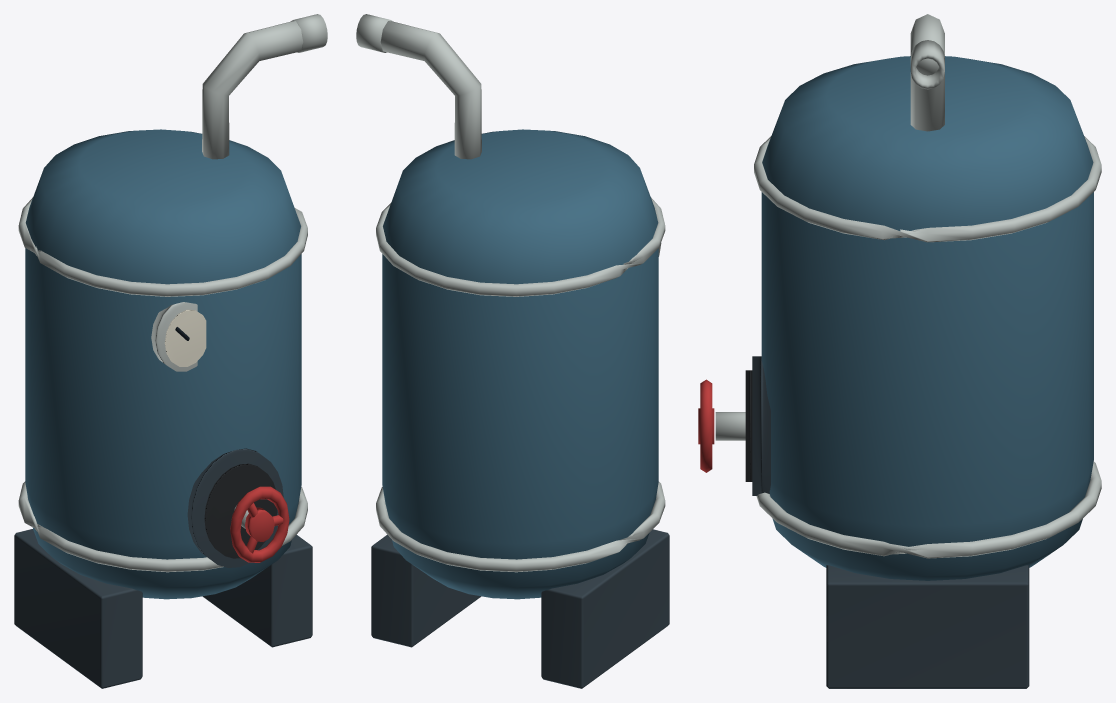
The model's file is S084_cartoon_boiler_rebuilt.glb.
3 renders of one model, left to right at view 1: azimuth 30°, elevation 25°; view 2: azimuth 150°, elevation 25°; view 3: azimuth 270°, elevation 25°, orthographic. The views are drawn at different scales.
Parts seen in each view (by area): view 1: blue, shell, silver, rubber, red, white; view 2: blue, shell, silver; view 3: blue, shell, silver, red, rubber.
Part boxes in pixels (bbox=[...]): blue: bbox=[25, 129, 301, 599]; shell: bbox=[14, 448, 312, 688]; silver: bbox=[18, 14, 327, 572]; rubber: bbox=[204, 463, 277, 558]; red: bbox=[230, 486, 289, 562]; white: bbox=[164, 309, 206, 366]; blue: bbox=[382, 129, 658, 599]; shell: bbox=[371, 529, 669, 688]; silver: bbox=[356, 14, 665, 572]; blue: bbox=[761, 56, 1093, 580]; shell: bbox=[752, 356, 1029, 688]; silver: bbox=[715, 14, 1101, 558]; red: bbox=[698, 379, 714, 472]; rubber: bbox=[745, 370, 752, 481].
Bounding box in the file's own units: 1.15 × 2.27 × 1.25.
